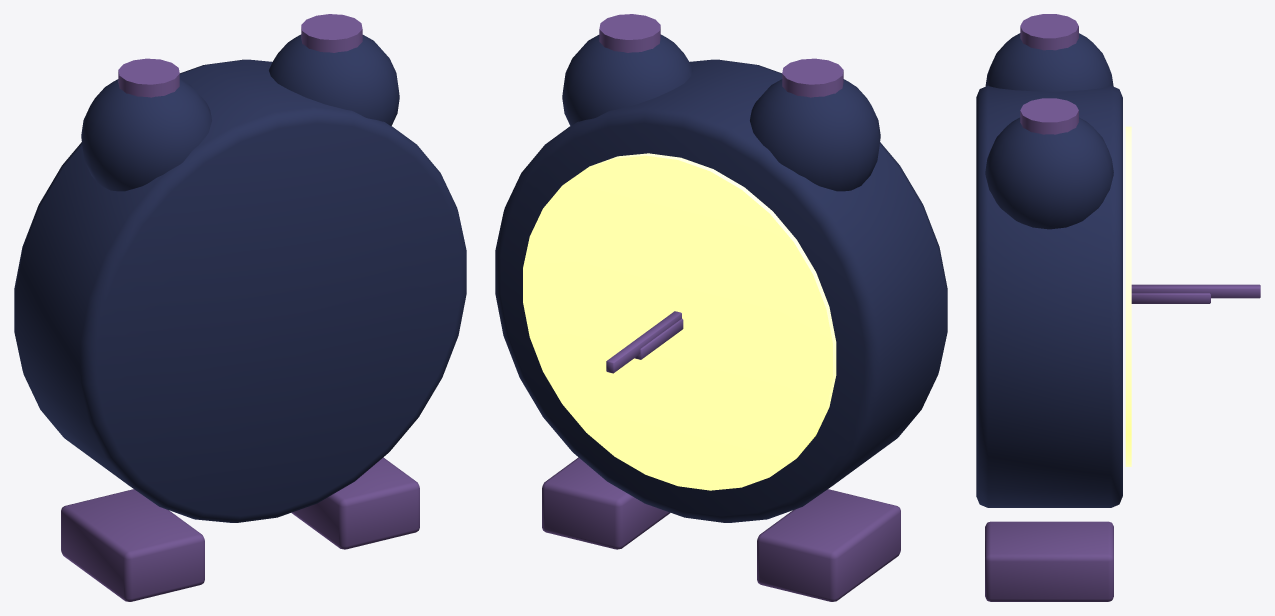
Rendered from zone_night_alarm_clock.glb.
The picture shows the model from 3 angles, left to right: view 1: azimuth 30°, elevation 25°; view 2: azimuth 150°, elevation 25°; view 3: azimuth 270°, elevation 25°; orthographic projection. The views are drawn at different scales.
Parts seen in each view (by area): view 1: zone_night_alarm_clock; view 2: zone_night_alarm_clock; view 3: zone_night_alarm_clock.
Part boxes in pixels (bbox=[...]): zone_night_alarm_clock: bbox=[14, 14, 466, 601]; zone_night_alarm_clock: bbox=[495, 14, 947, 601]; zone_night_alarm_clock: bbox=[976, 14, 1260, 601].
Size of the model in its own units: 1.43 by 1.76 by 0.97.
